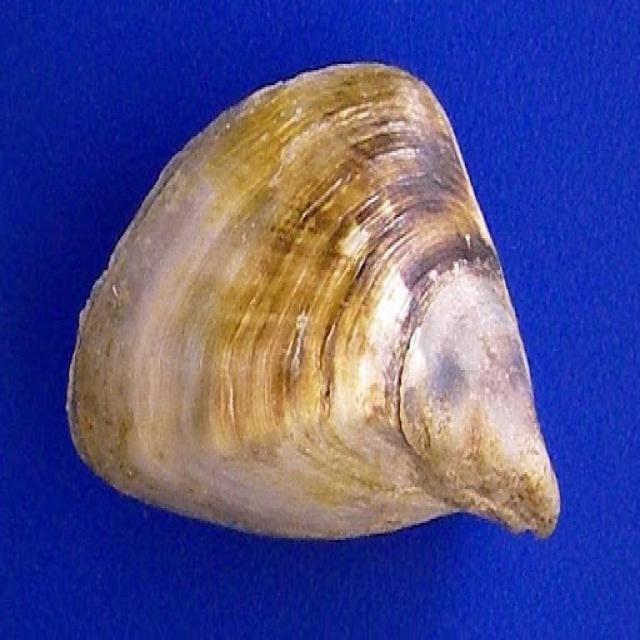Dreissena_polymorpha: (65, 62, 563, 543)
